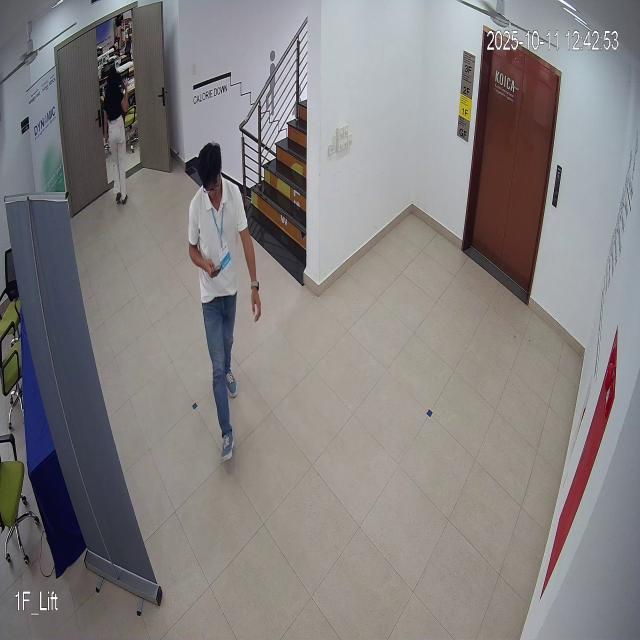face: (195, 135, 230, 205)
